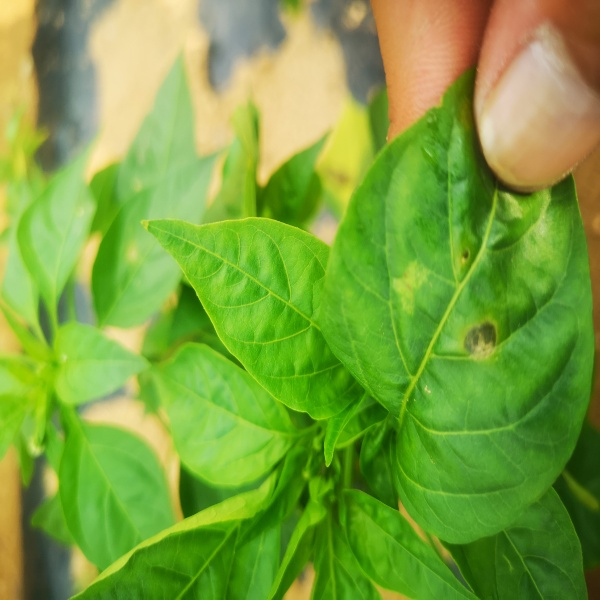Anthrax: (450, 247, 504, 359)
